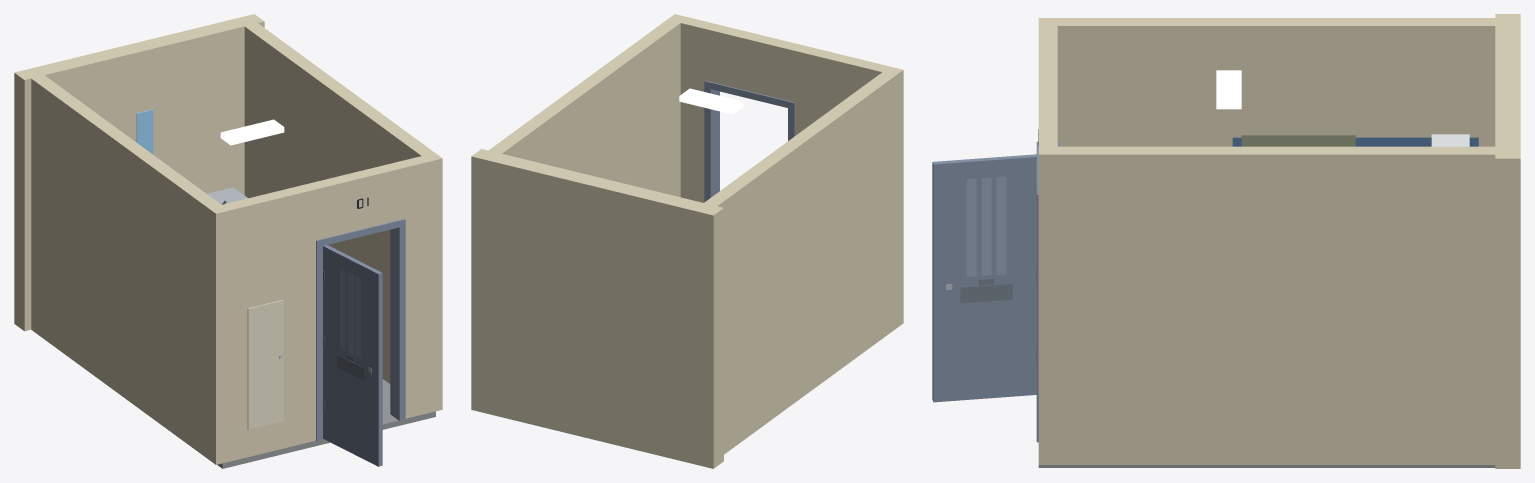
The model's file is prs-003.glb.
3 renders of one model, left to right at view 1: azimuth 30°, elevation 25°; view 2: azimuth 150°, elevation 25°; view 3: azimuth 270°, elevation 25°, orthographic. The views are drawn at different scales.
Parts seen in each view (by area): view 1: block_wall, cell_door, access_panel, prison_floor, glass_clear, lamp_diffuser, glass, prison_steel, stainless; view 2: block_wall, cell_door, lamp_diffuser; view 3: block_wall, cell_door, glass_clear, prison_blanket, prison_floor, prison_steel, lamp_diffuser, mattress.
Boxes of the visible parts, x1,y1,x2,y2 form: block_wall: [14, 14, 442, 464]; cell_door: [316, 219, 405, 466]; access_panel: [247, 300, 283, 429]; prison_floor: [217, 379, 435, 468]; glass_clear: [340, 269, 360, 357]; lamp_diffuser: [220, 119, 284, 145]; glass: [136, 109, 153, 154]; prison_steel: [323, 271, 364, 412]; stainless: [207, 187, 371, 373]; block_wall: [471, 14, 903, 468]; cell_door: [704, 80, 794, 202]; lamp_diffuser: [679, 88, 743, 114]; block_wall: [1038, 14, 1520, 468]; cell_door: [932, 141, 1059, 442]; glass_clear: [967, 177, 1005, 276]; prison_blanket: [1241, 135, 1355, 146]; prison_floor: [1038, 465, 1495, 467]; prison_steel: [960, 187, 1036, 362]; lamp_diffuser: [1216, 70, 1241, 109]; mattress: [1232, 137, 1478, 146].
Size of the model in its own units: 2.7 by 2.76 by 4.64.
